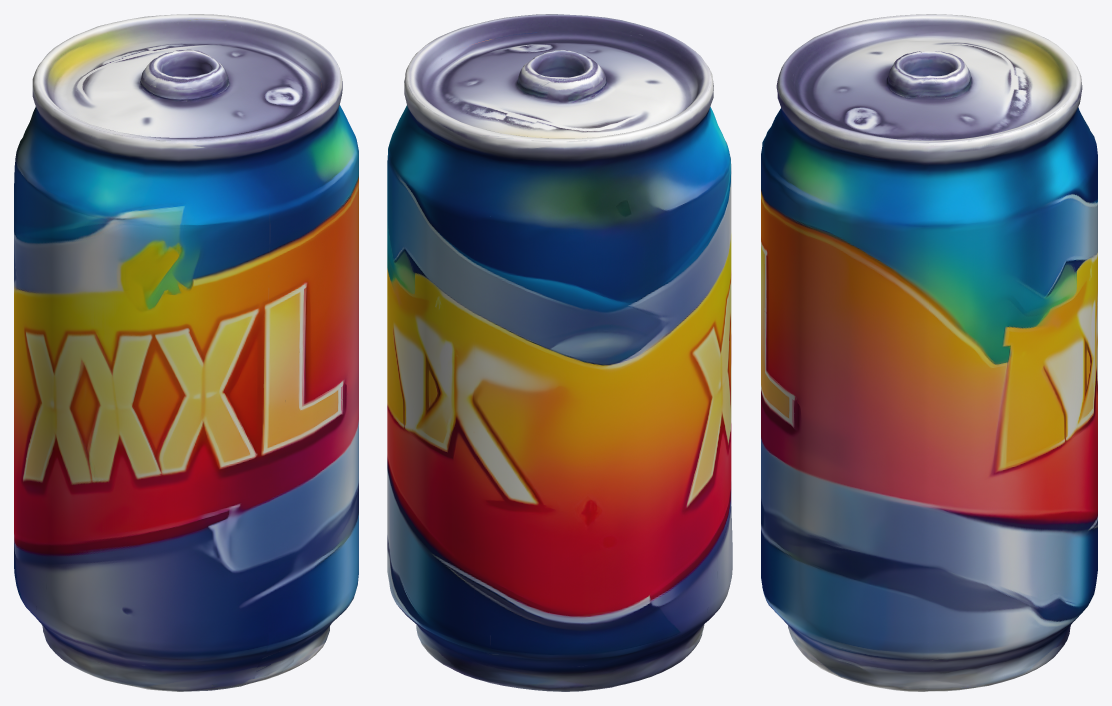
The model's file is Meshy_AI_Energetic_XXL_0227123359_texture.fbx.
3 views of the same model, side by side, from view 1: azimuth 30°, elevation 25°; view 2: azimuth 150°, elevation 25°; view 3: azimuth 270°, elevation 25° (orthographic).
Parts seen in each view (by area): view 1: Mesh_0; view 2: Mesh_0; view 3: Mesh_0.
Part boxes in pixels (box(x1,y1,x2,y2)): Mesh_0: box(14, 14, 358, 691); Mesh_0: box(387, 14, 732, 691); Mesh_0: box(761, 14, 1097, 691).
Bounding box in the file's own units: 105 × 191 × 102.
1 material, 1 textured.
